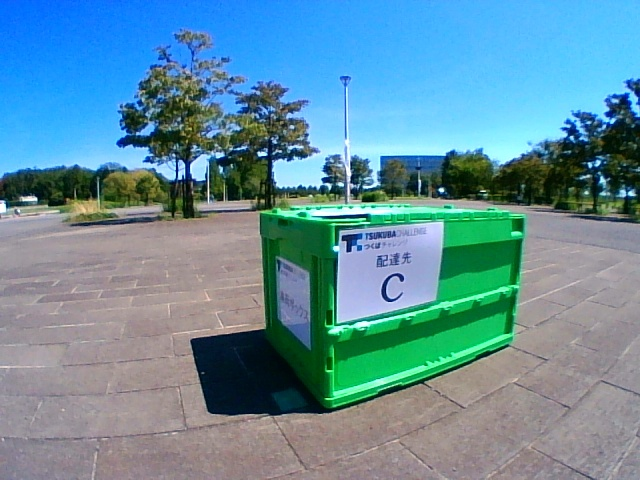green_box: (260, 204, 524, 408)
tag_c: (346, 230, 437, 303)
